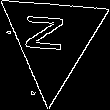N_E: (29, 18, 77, 61)
